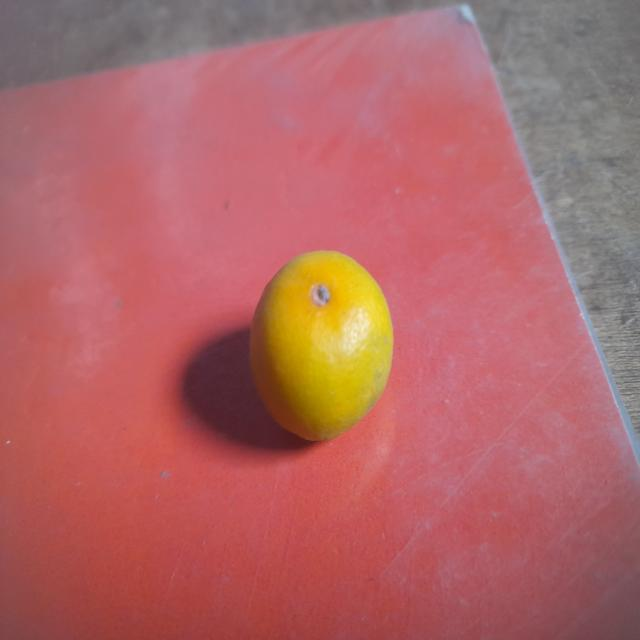greening: (258, 252, 401, 450)
